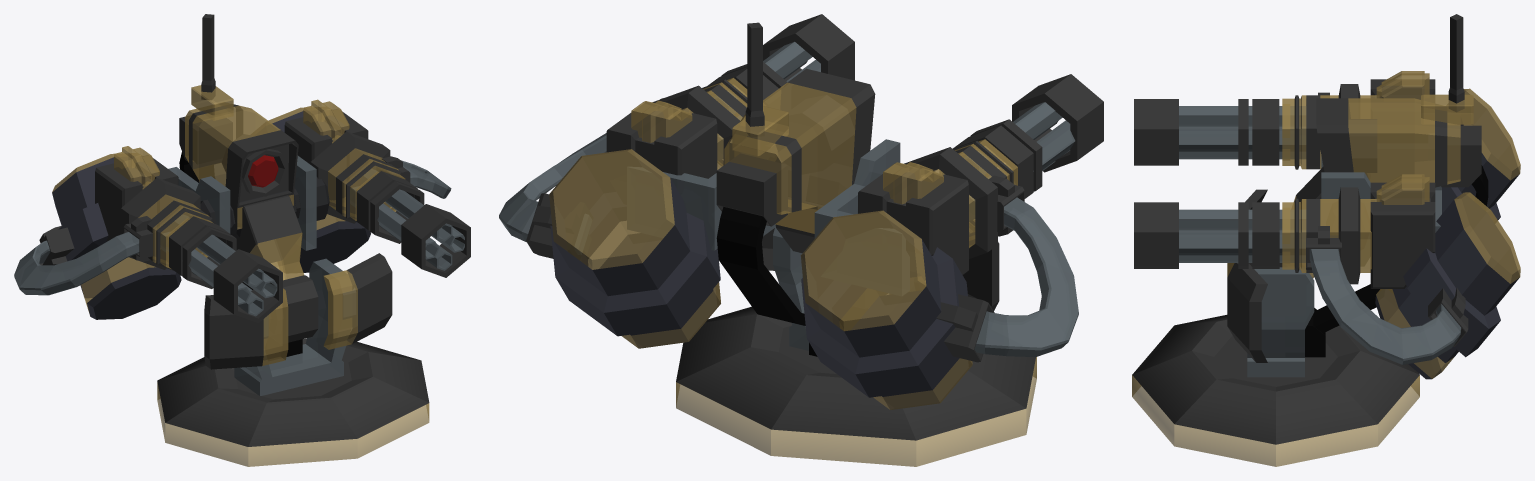
The model's file is Gun_Max.fbx.
The picture shows the model from 3 angles, left to right: view 1: azimuth 30°, elevation 25°; view 2: azimuth 150°, elevation 25°; view 3: azimuth 270°, elevation 25°; orthographic projection. The views are drawn at different scales.
Parts seen in each view (by area): view 1: Guns, Head, Base.004; view 2: Guns, Base.004, Head; view 3: Guns, Base.004, Head.
Part boxes in pixels (box(x1,y1,x2,y2)): Guns: box(14, 99, 470, 323); Head: box(179, 14, 392, 395); Base.004: box(157, 338, 429, 466); Guns: box(499, 14, 1103, 409); Base.004: box(676, 306, 1036, 466); Head: box(716, 22, 999, 356); Guns: box(1134, 71, 1520, 379); Base.004: box(1132, 315, 1419, 466); Head: box(1227, 14, 1488, 377).
Bounding box in the file's own units: 1.1 × 0.8367 × 0.7808.
